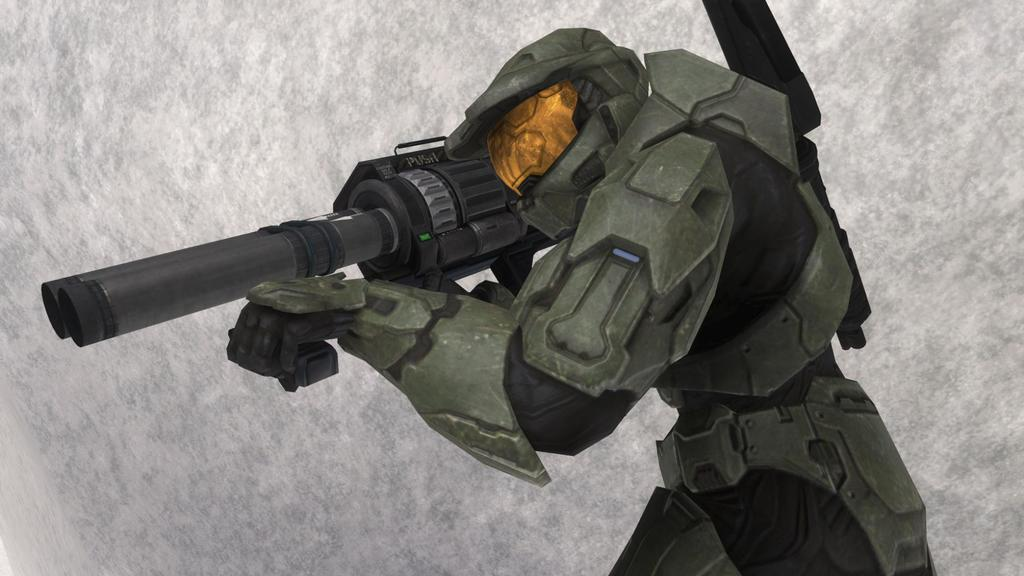Rifle: (42, 136, 550, 351)
